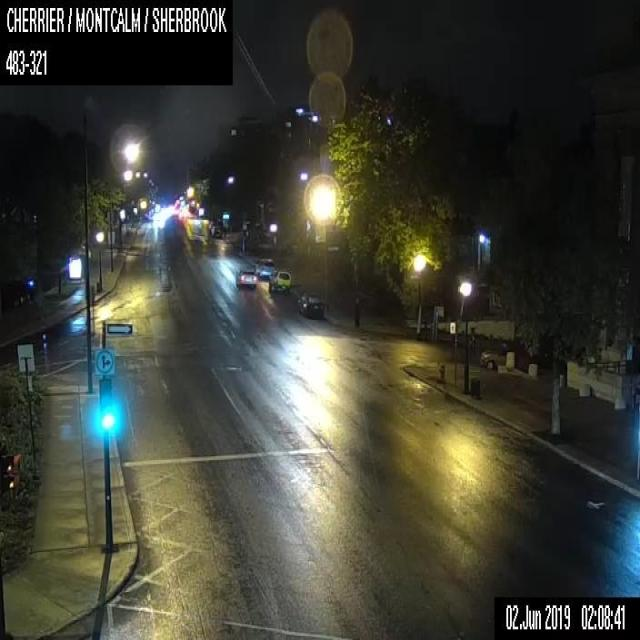pedestrian: (353, 296, 359, 327)
vehicle: (478, 346, 527, 368), (296, 290, 324, 317), (268, 267, 290, 289), (254, 257, 275, 278), (236, 267, 256, 287), (210, 224, 222, 237)
